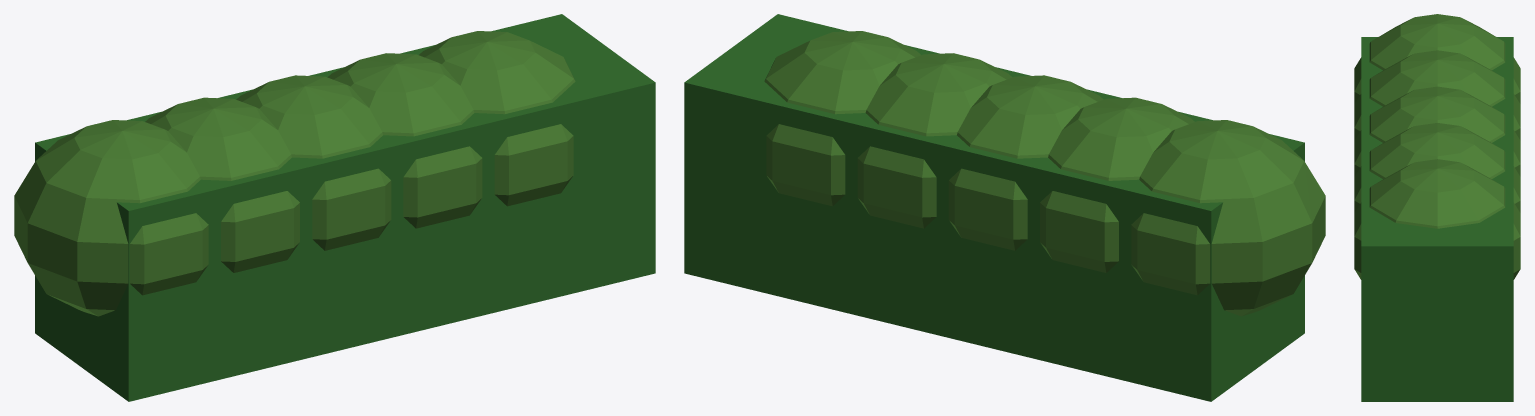
The model's file is Bush_Hedge.obj.
3 renders of one model, left to right at view 1: azimuth 30°, elevation 25°; view 2: azimuth 150°, elevation 25°; view 3: azimuth 270°, elevation 25°, orthographic. The views are drawn at different scales.
Parts seen in each view (by area): view 1: HedgeCore, LeafClump; view 2: HedgeCore, LeafClump; view 3: HedgeCore, LeafClump.
Boxes of the visible parts, left/top/right/bottom form: HedgeCore: left=35, top=14, right=655, bottom=401; LeafClump: left=14, top=31, right=575, bottom=316; HedgeCore: left=684, top=14, right=1304, bottom=401; LeafClump: left=764, top=31, right=1325, bottom=316; HedgeCore: left=1361, top=37, right=1513, bottom=401; LeafClump: left=1354, top=14, right=1520, bottom=279.
Size of the model in its own units: 2.87 by 1.07 by 0.8716.
